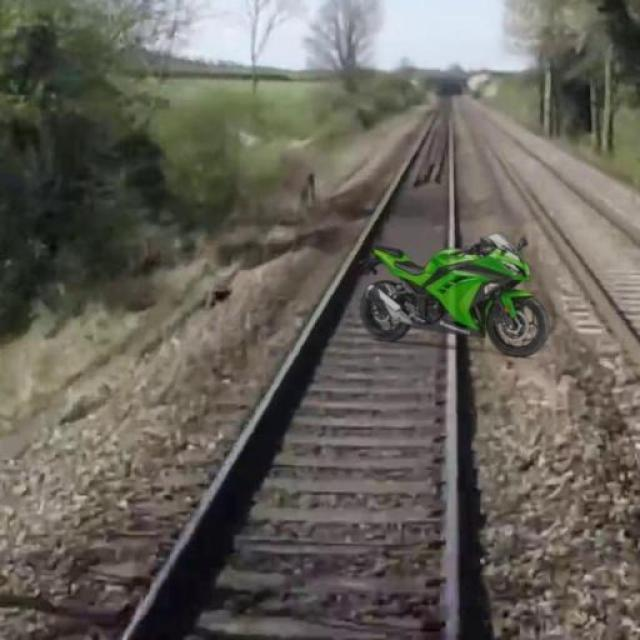vehicle: (360, 229, 558, 361)
